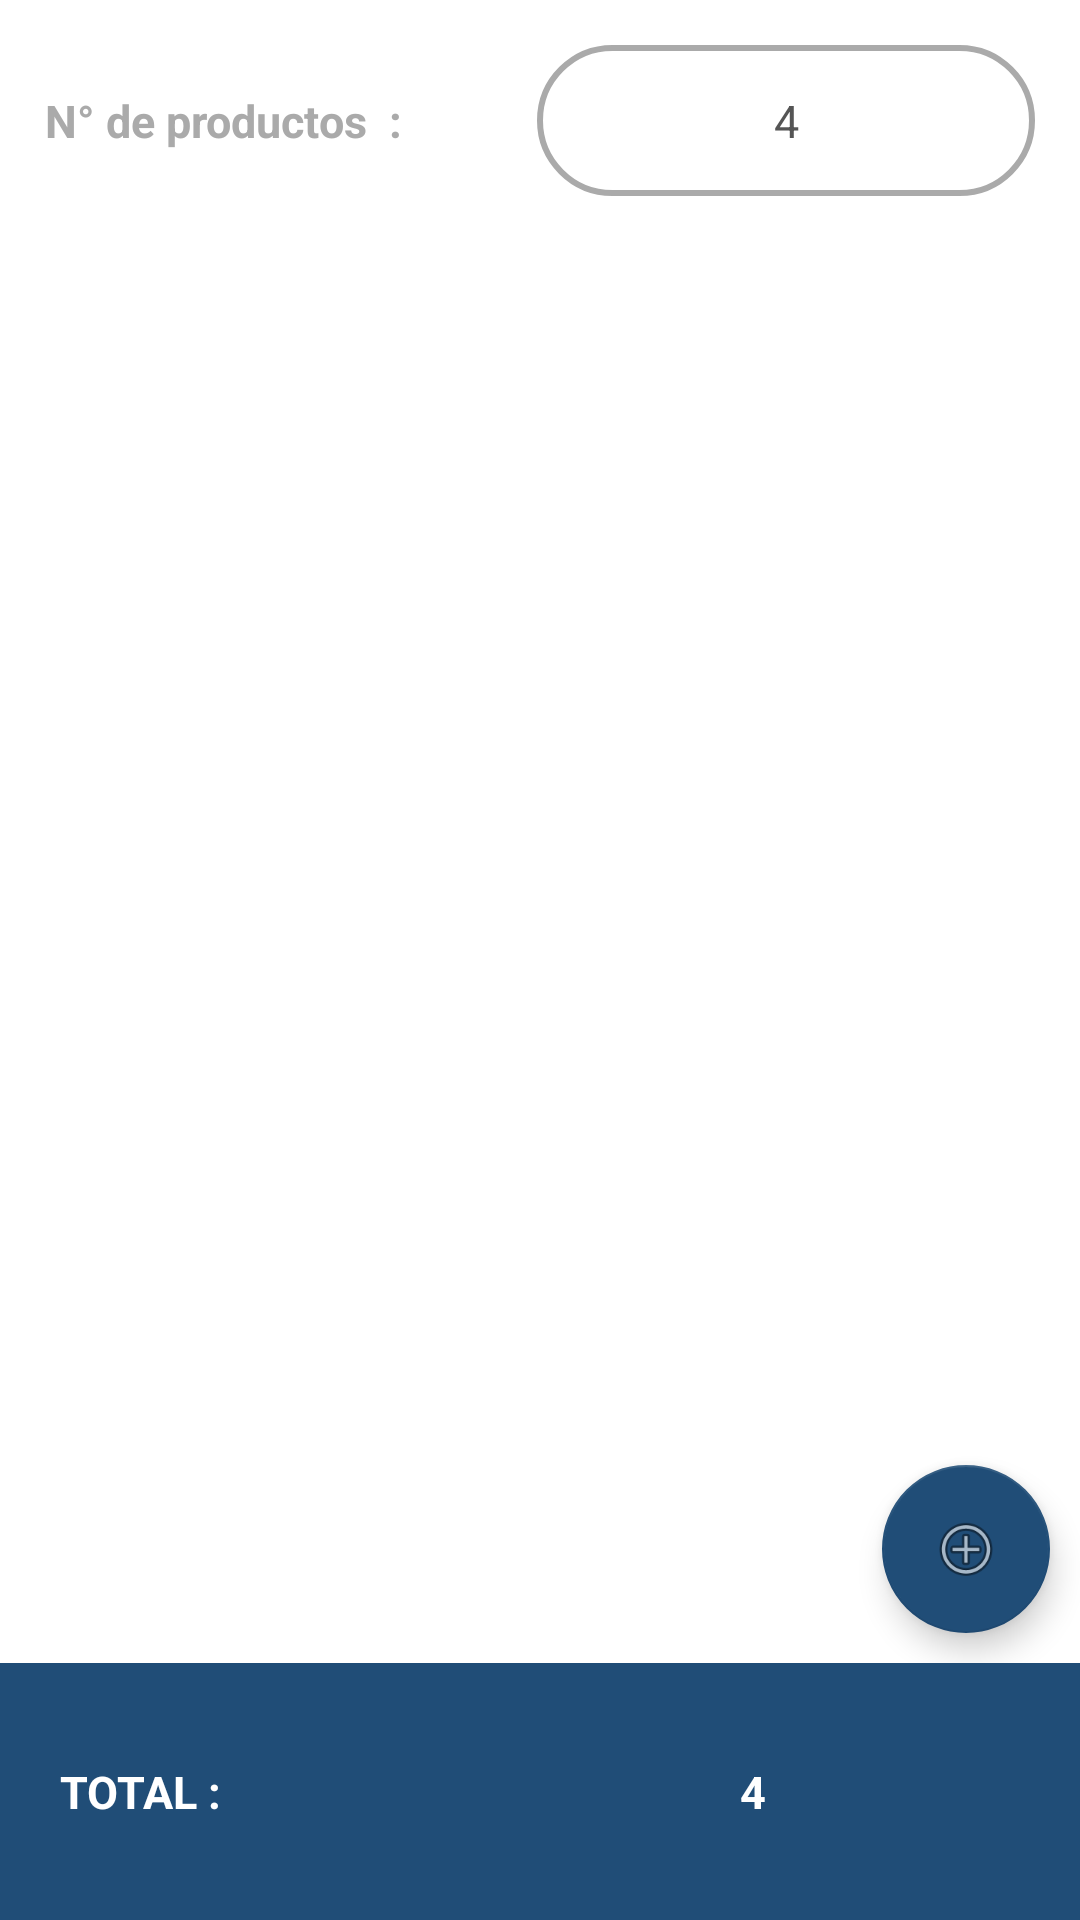

Named icons in this screenshot (1080×1920) and their centers, (x=x, y=y):
add: (x=966, y=1549)
